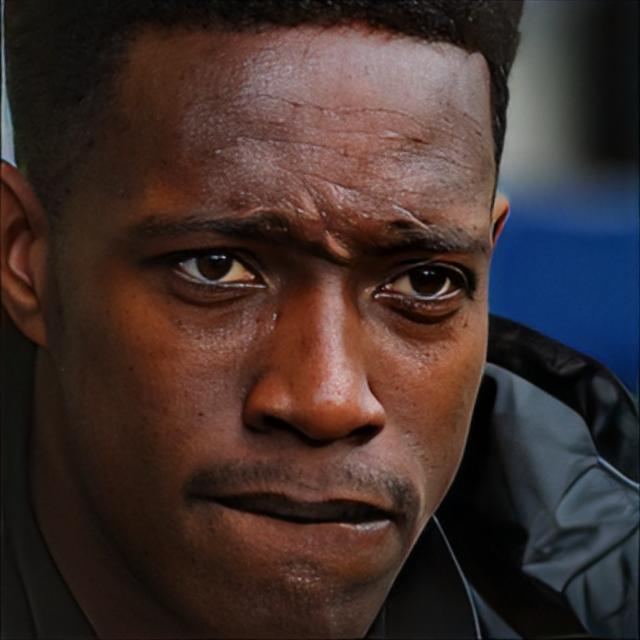sad: (49, 32, 502, 640)
